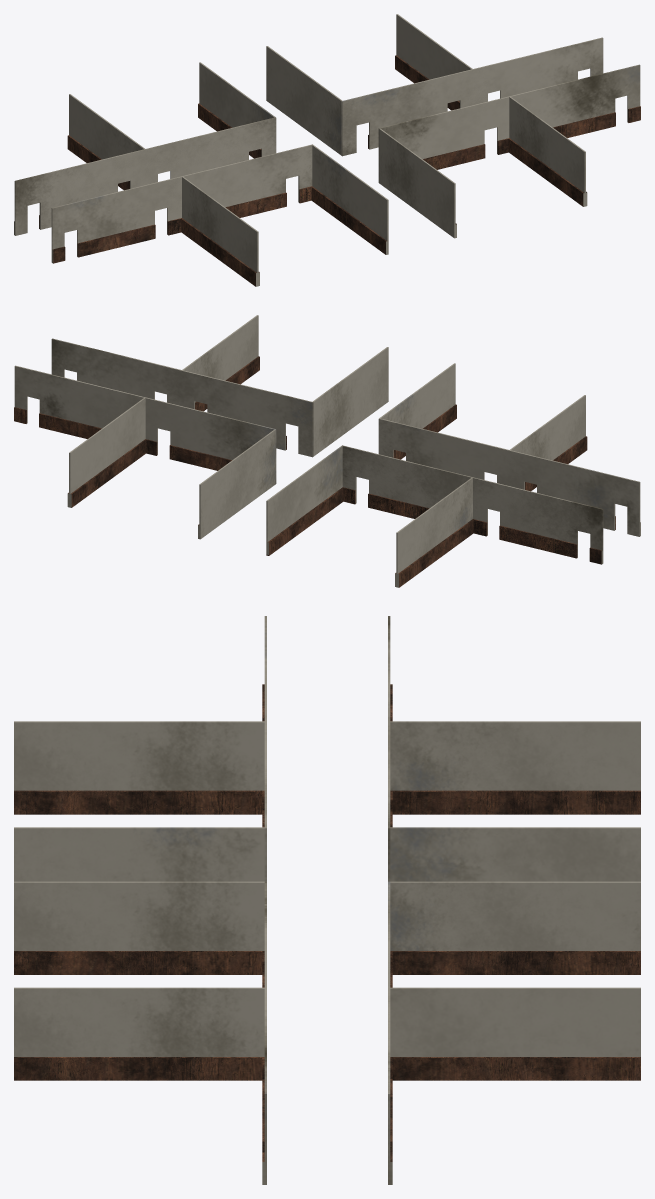
3 views of the same model, one above another, from view 1: azimuth 30°, elevation 25°; view 2: azimuth 150°, elevation 25°; view 3: azimuth 270°, elevation 25° (orthographic). The views are drawn at different scales.
Visible parts, largest first — view 1: 벽; view 2: 벽; view 3: 벽.
Part boxes in pixels (x1,y1,x2,y2): 벽: [14, 14, 640, 286]; 벽: [14, 315, 640, 587]; 벽: [14, 616, 640, 1184].
Size of the model in its own units: 4490 by 399 by 2490.
